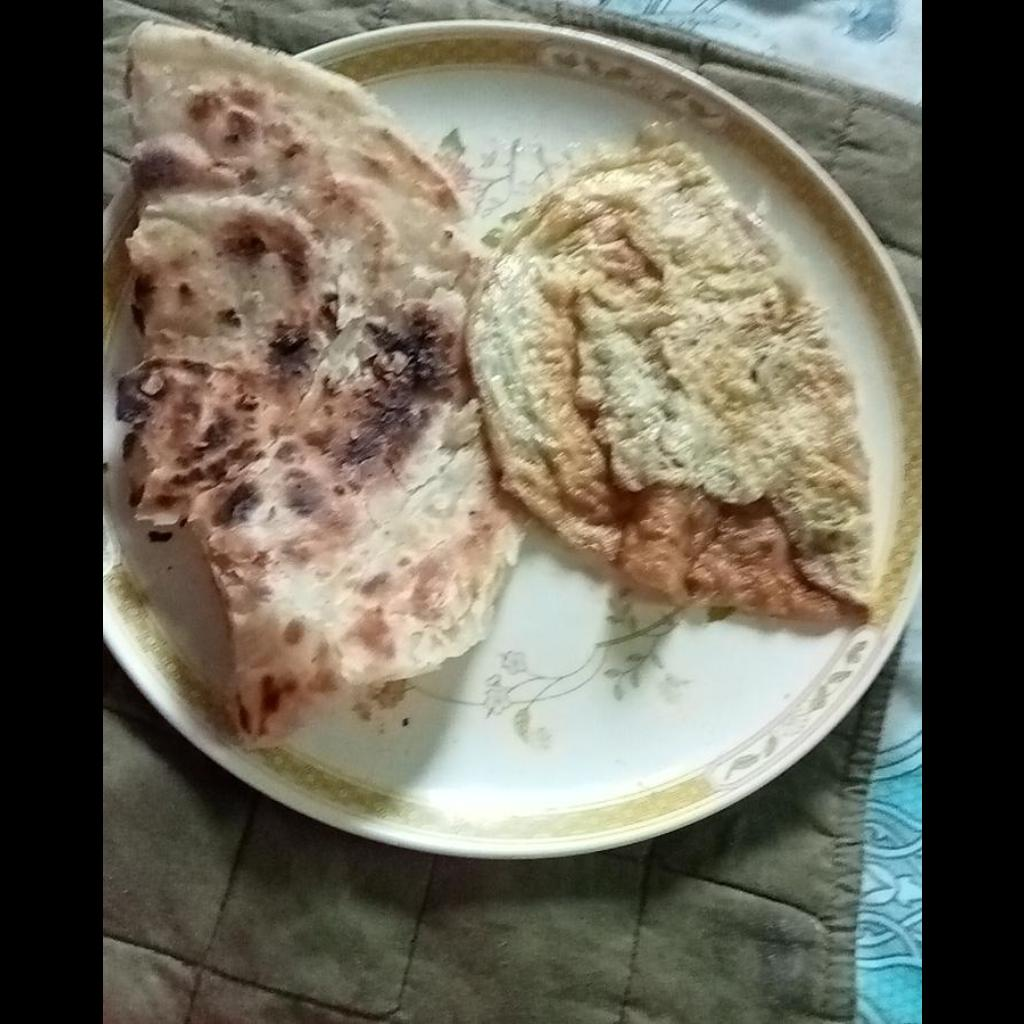egg-poached: (472, 141, 878, 633)
ruti: (115, 17, 518, 751)
